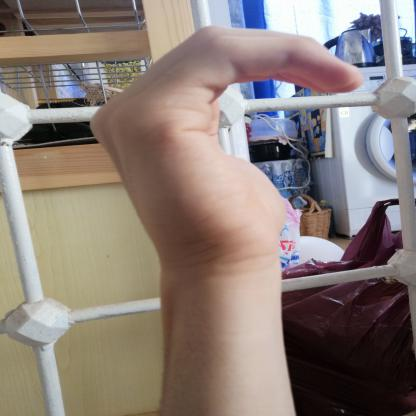HAA: (70, 17, 384, 278)
